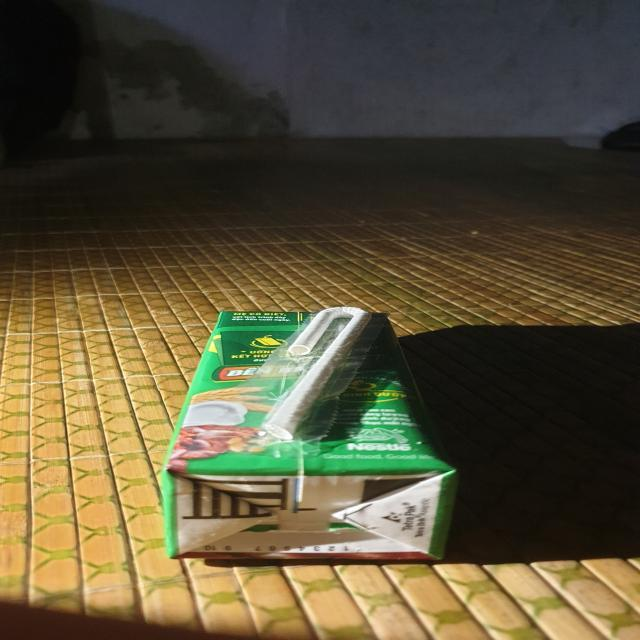Milo: (156, 308, 469, 568)
